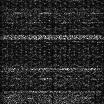lte: (1, 90, 103, 104), (1, 34, 104, 40), (1, 67, 104, 72)
